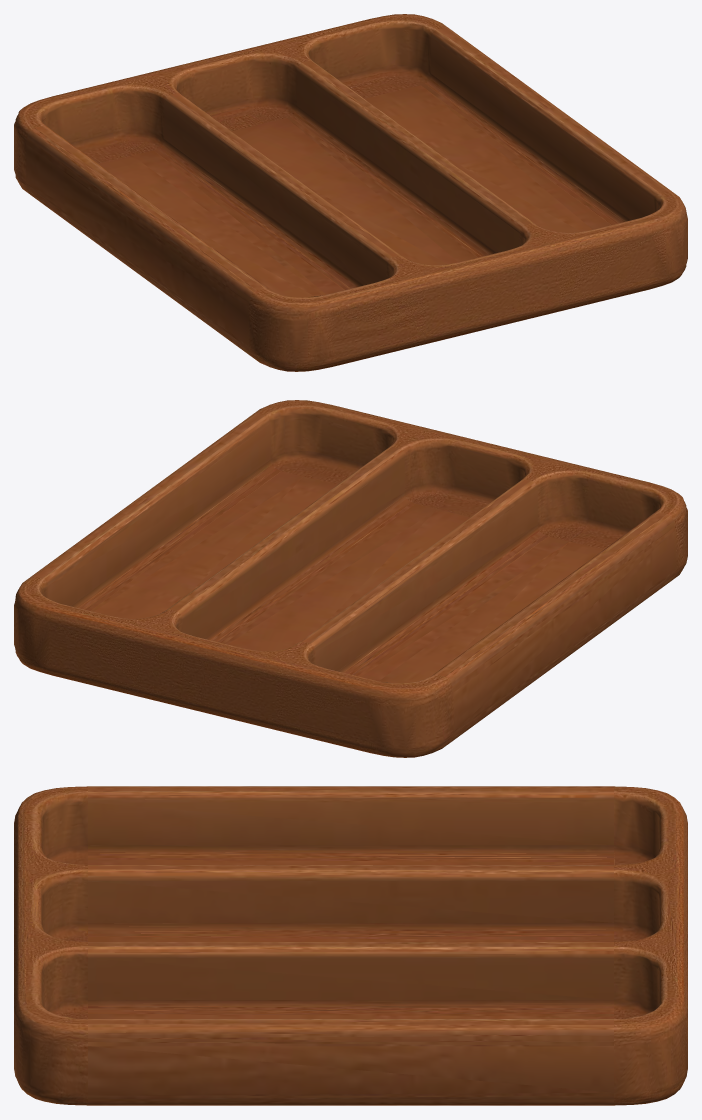
File: review-tray-lod0.glb
3 views of the same model, one above another, from view 1: azimuth 30°, elevation 25°; view 2: azimuth 150°, elevation 25°; view 3: azimuth 270°, elevation 25° (orthographic). The views are drawn at different scales.
Parts seen in each view (by area): view 1: ROOT_ReviewTray; view 2: ROOT_ReviewTray; view 3: ROOT_ReviewTray.
Part boxes in pixels (x1,y1,x2,y2): ROOT_ReviewTray: [14, 14, 687, 371]; ROOT_ReviewTray: [14, 400, 687, 757]; ROOT_ReviewTray: [14, 786, 687, 1105].
Bounding box in the file's own units: 0.8652 × 0.1309 × 0.998.
1 material, 1 textured.
